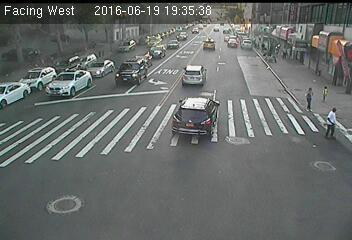neg: (61, 180, 97, 229), (182, 88, 210, 127), (217, 122, 245, 159), (301, 146, 329, 183), (95, 124, 121, 159), (260, 159, 281, 188), (176, 170, 197, 198), (74, 96, 92, 120), (132, 188, 149, 210), (148, 56, 164, 77), (265, 84, 279, 102), (230, 47, 240, 61)
pos: (321, 105, 346, 139), (300, 85, 321, 113), (322, 83, 333, 98)
